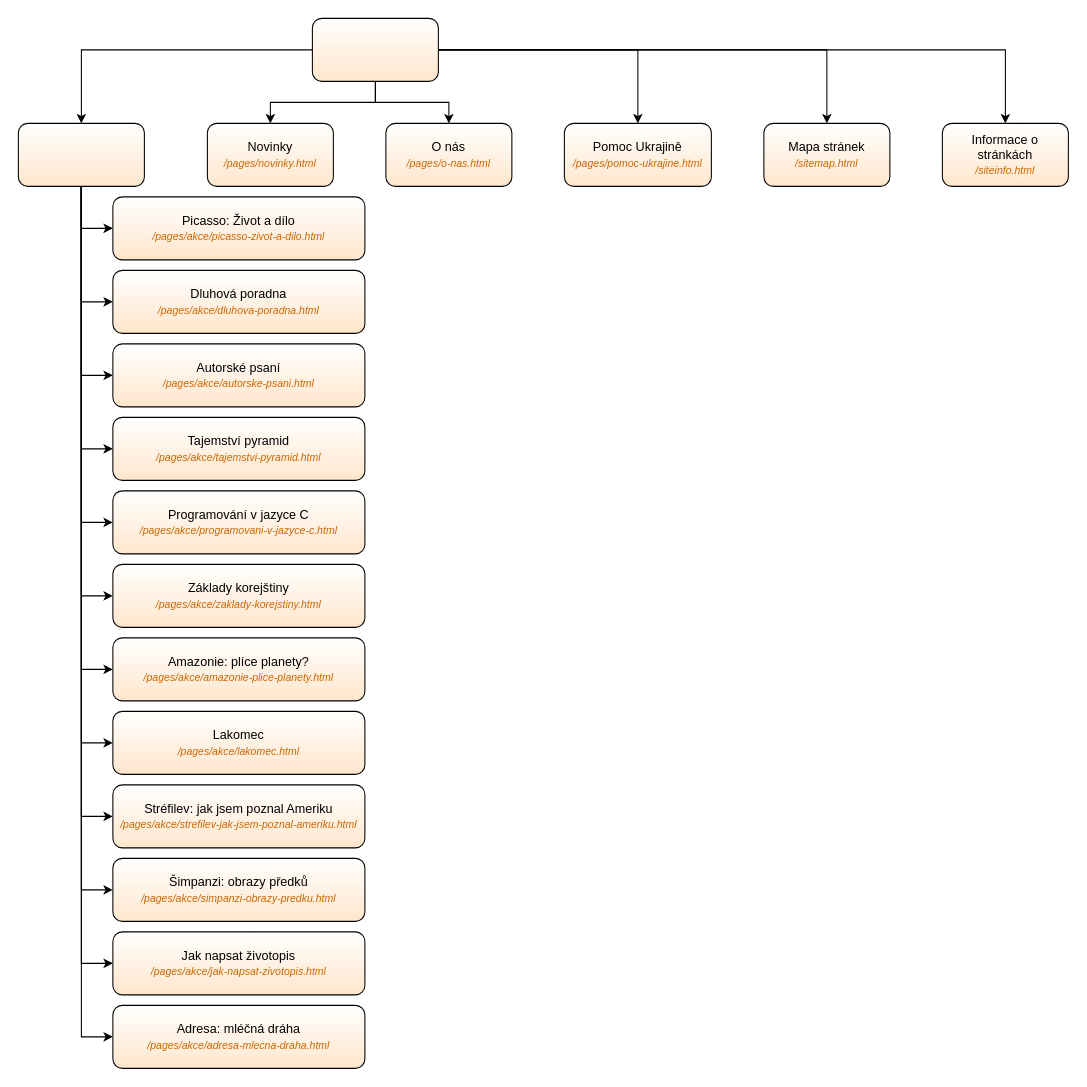
Some shapes in this 1087 by 1087 pixel diagram are drawn without their labels. Each missing label, with the centre of its shape:
Akce /pages/akce.html: pixel 80 154
Domovská stránka /index.html: pixel 374 49
